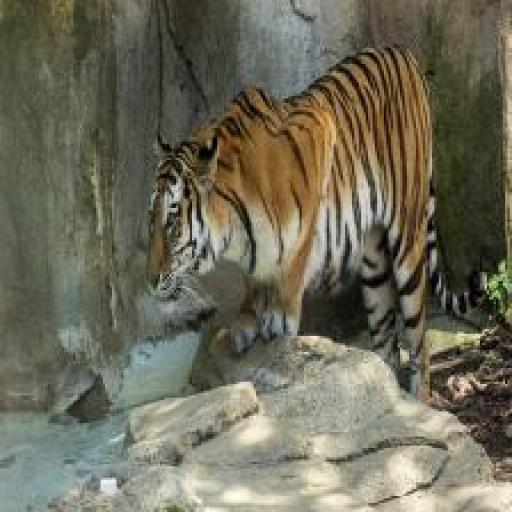Tiger: (137, 41, 493, 422)
